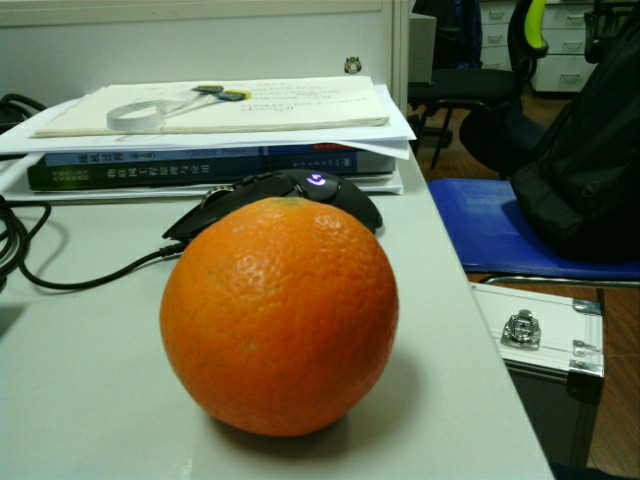normal_orange: (161, 199, 397, 438)
